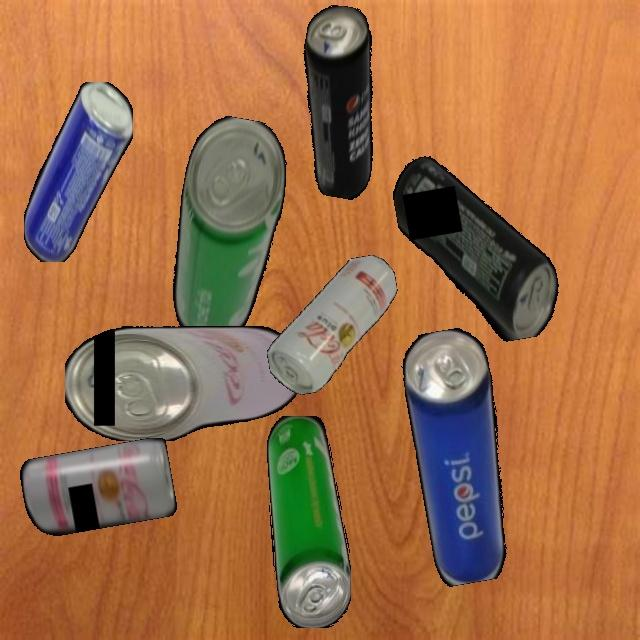debris: (388, 138, 566, 356), (396, 324, 526, 588), (158, 111, 296, 349), (65, 325, 303, 441), (280, 1, 398, 202), (254, 252, 412, 399), (23, 81, 133, 262), (266, 415, 351, 628), (18, 436, 178, 540)
